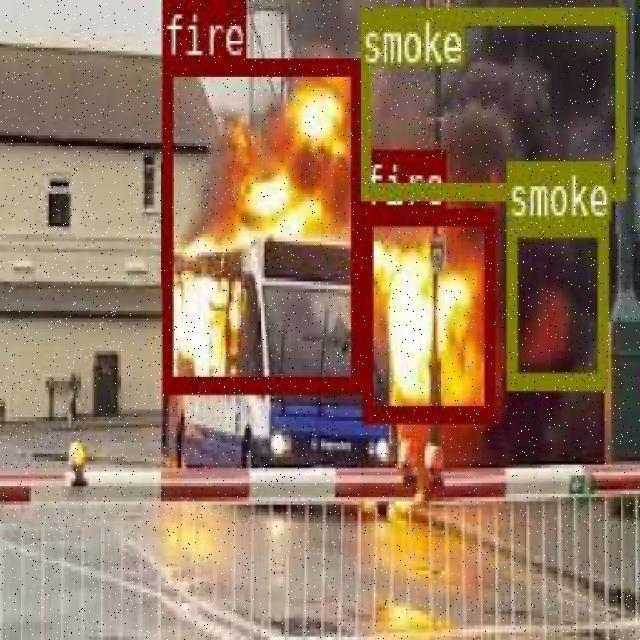Smoke: (359, 4, 623, 197), (504, 250, 606, 354)
